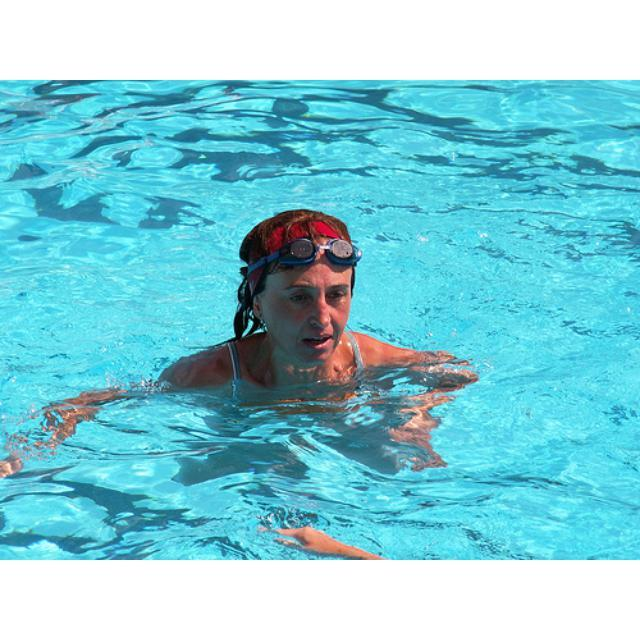human: (155, 205, 453, 467)
